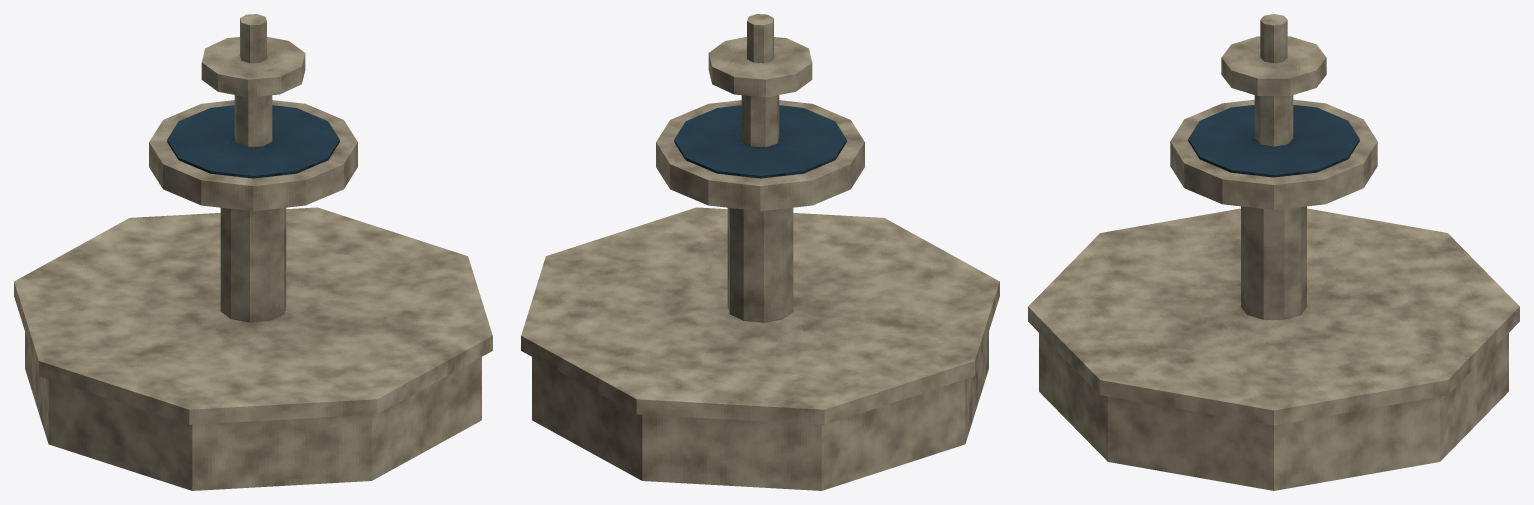
The model's file is siracusa_fountain.glb.
3 renders of one model, left to right at view 1: azimuth 30°, elevation 25°; view 2: azimuth 150°, elevation 25°; view 3: azimuth 270°, elevation 25°, orthographic.
Visible parts, largest first — view 1: siracusa_fountain; view 2: siracusa_fountain; view 3: siracusa_fountain.
Part boxes in pixels (box(x1,y1,x2,y2)): siracusa_fountain: box(14, 14, 492, 490); siracusa_fountain: box(521, 14, 999, 490); siracusa_fountain: box(1028, 14, 1519, 490).
Bounding box in the file's own units: 3.56 × 2.97 × 3.56.
Materials: 2 (2 with a texture image).
